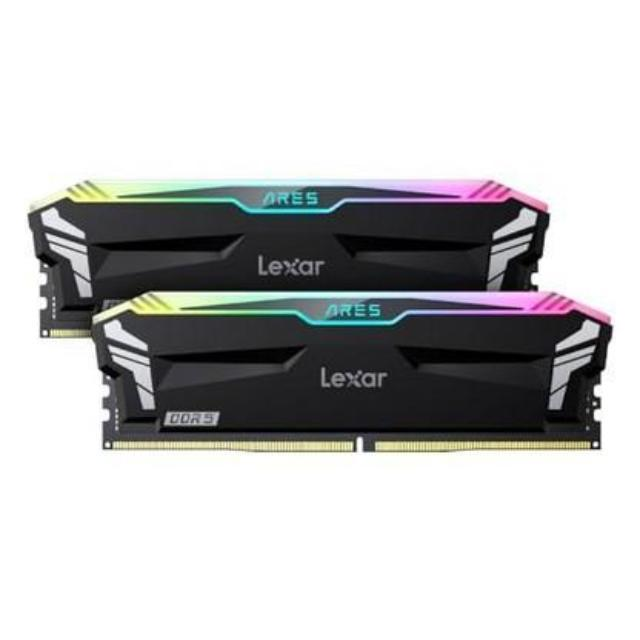RAM: (26, 164, 620, 466)
